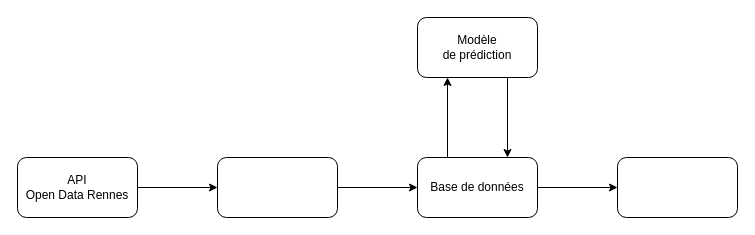
Image size: 755x235. Some labels were removed from this diagram. Each missing label, with the centre of its shape:
"Data crawler" belongs at point (277, 187).
"Interface utilisateur" belongs at point (677, 187).
